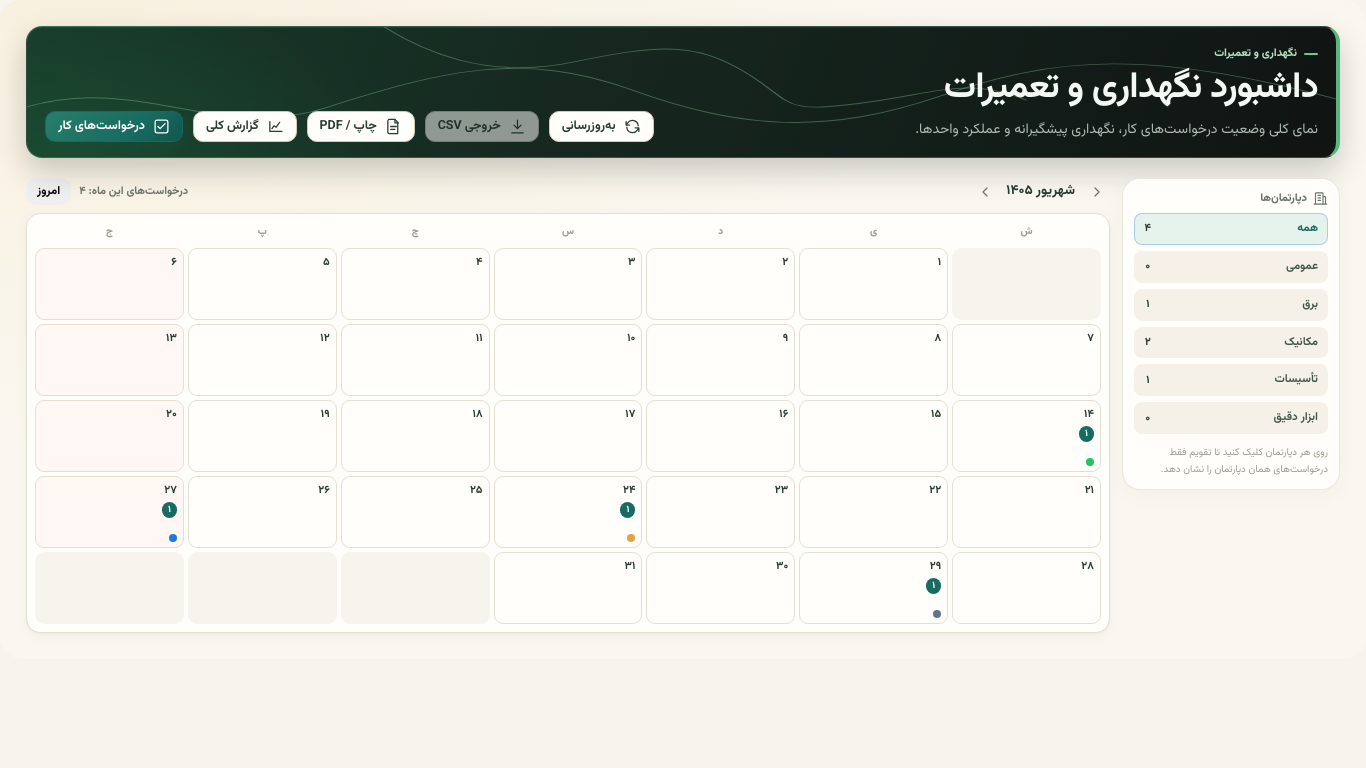
Test: the maintenance dashboard family › clicking a calendar day lists that day's requests
Expected: the table is shown, [26,213,1110,632]
Click the button titled "تعویض باتری ژنراتور": (874, 588) [799,552,948,624]
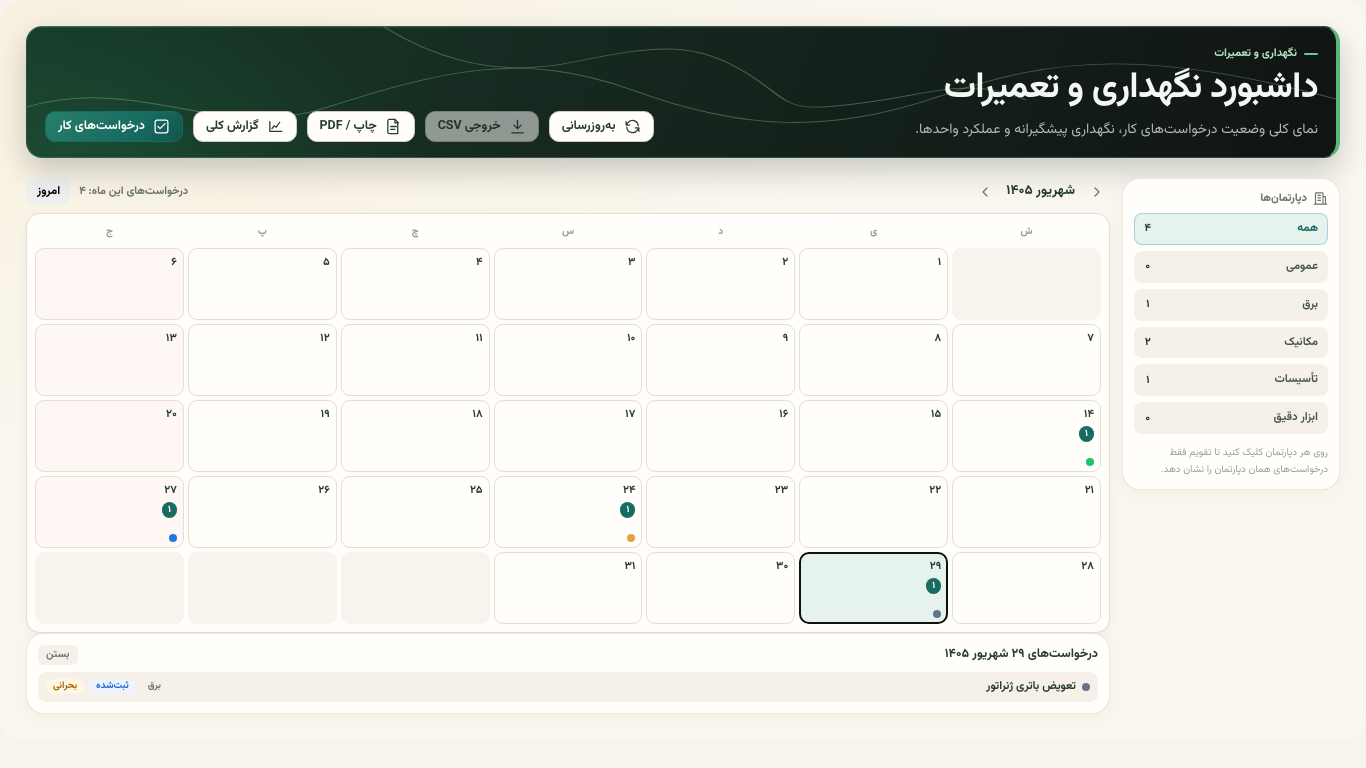
Expected: the button "بستن" is shown, [38,644,78,665]
Expected: the text "تعویض باتری ژنراتور" is shown, [986,678,1090,696]
